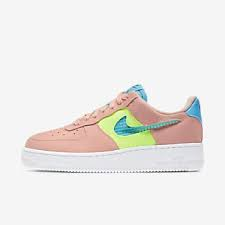nike: (109, 113, 187, 141)
